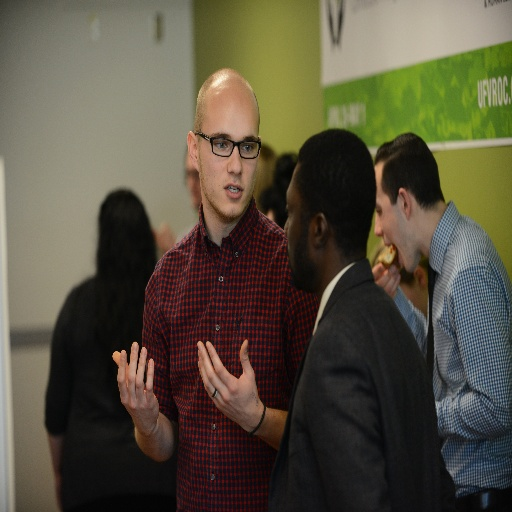hand: (193, 345, 273, 435), (112, 341, 160, 432), (370, 258, 401, 301)
